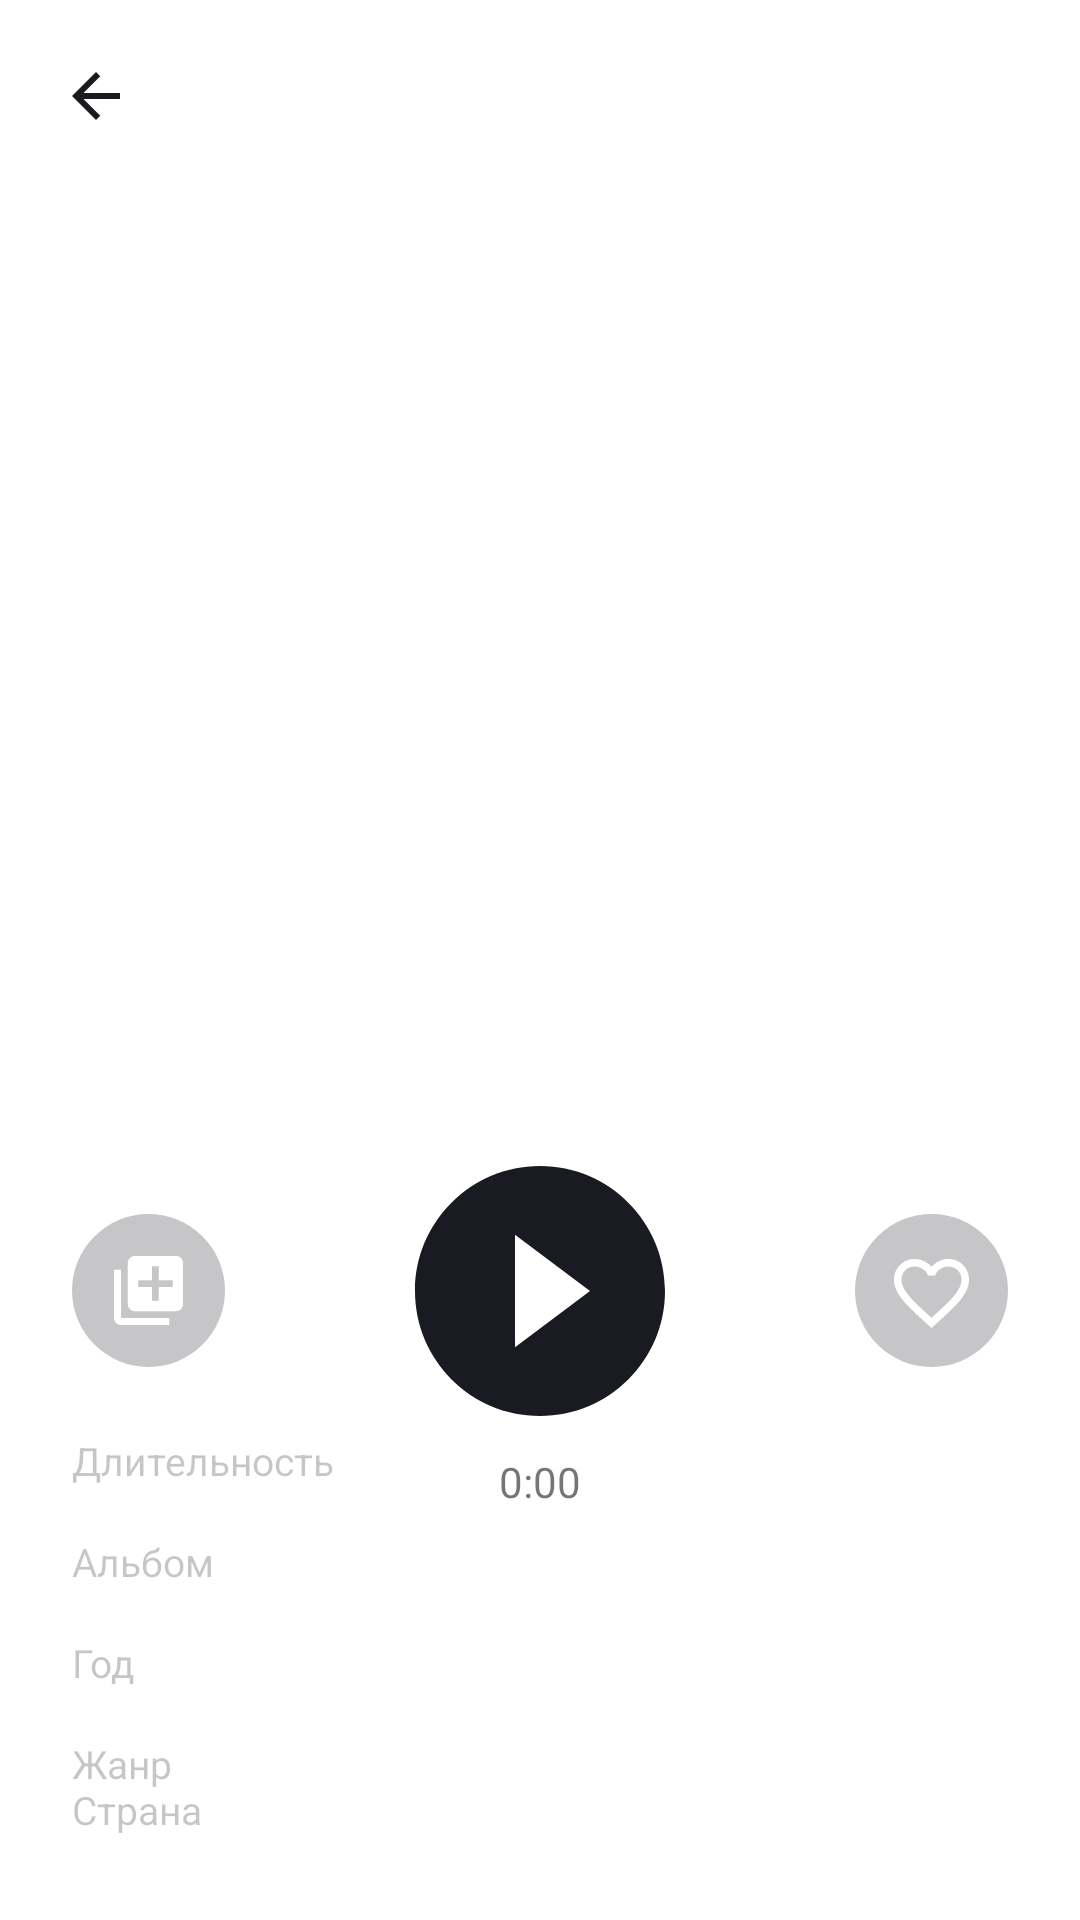

Where to tap for icons on this 1080px x 1920px app screen, as (x,y):
Arrow back: (96,96)
like: (931,1290)
play: (540,1291)
